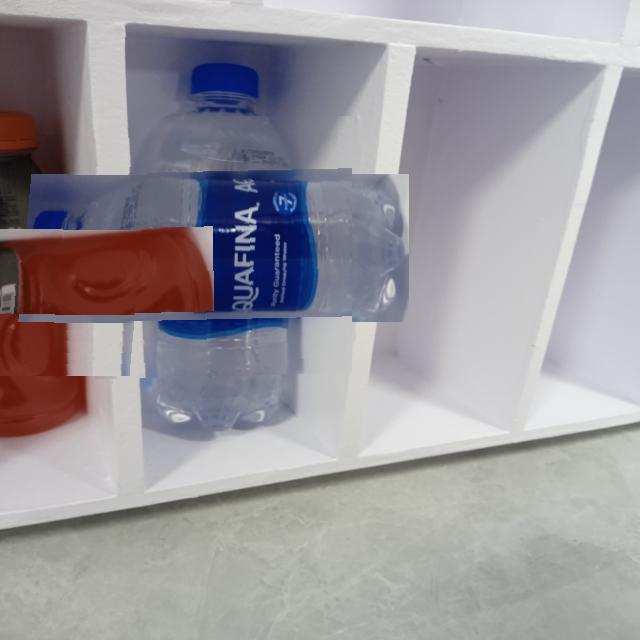Plastic: (89, 116, 352, 379), (0, 166, 148, 376)
